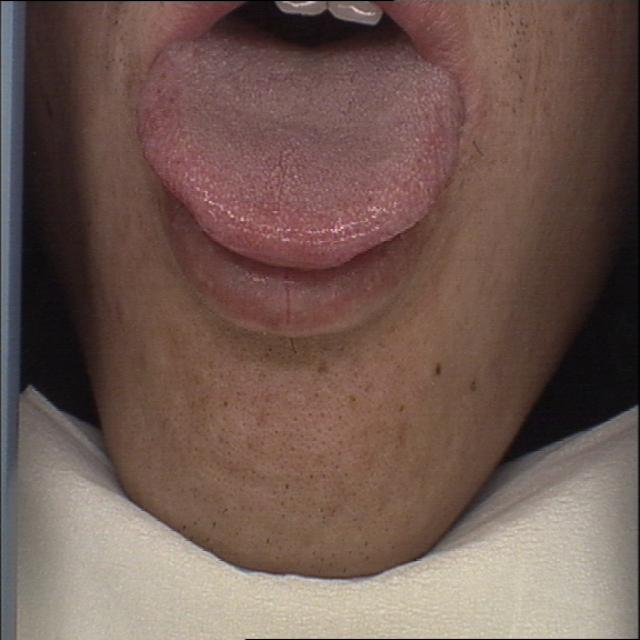tongue: (132, 34, 469, 278)
